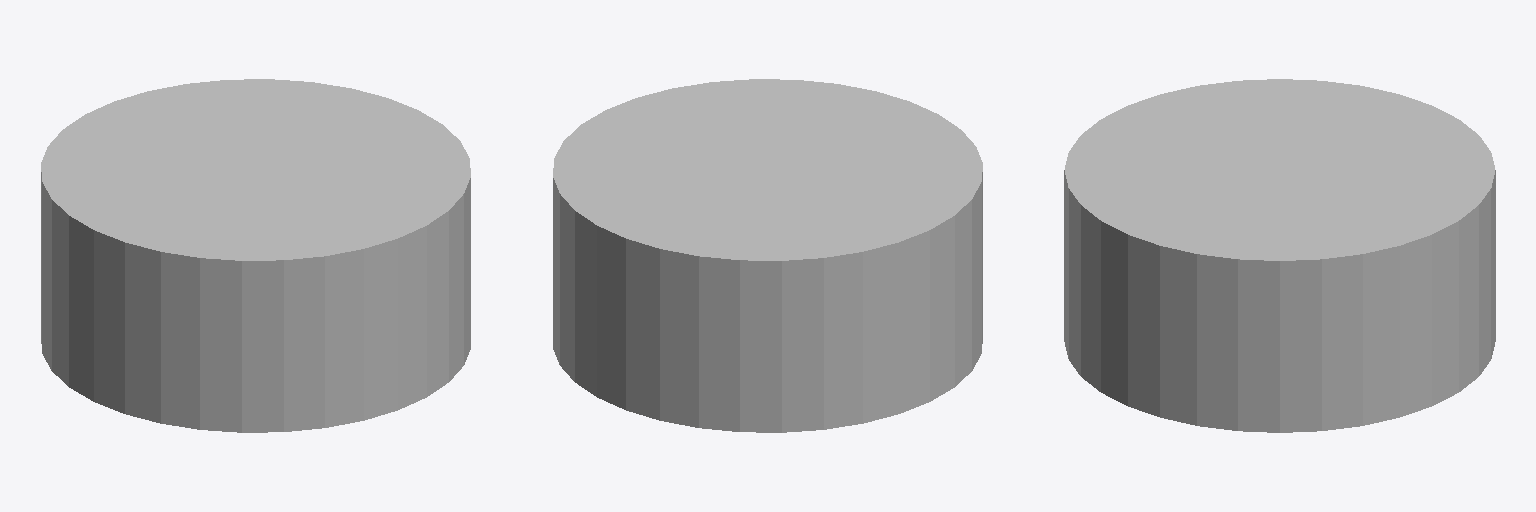
Rendered from can_frame4.obj.
3 views of the same model, side by side, from view 1: azimuth 30°, elevation 25°; view 2: azimuth 150°, elevation 25°; view 3: azimuth 270°, elevation 25° (orthographic).
Parts seen in each view (by area): view 1: Cylinder; view 2: Cylinder; view 3: Cylinder.
Part boxes in pixels (bbox=[...]): Cylinder: bbox=[41, 79, 470, 432]; Cylinder: bbox=[553, 79, 982, 432]; Cylinder: bbox=[1064, 79, 1495, 432].
Size of the model in its own units: 2 by 0.8797 by 2.